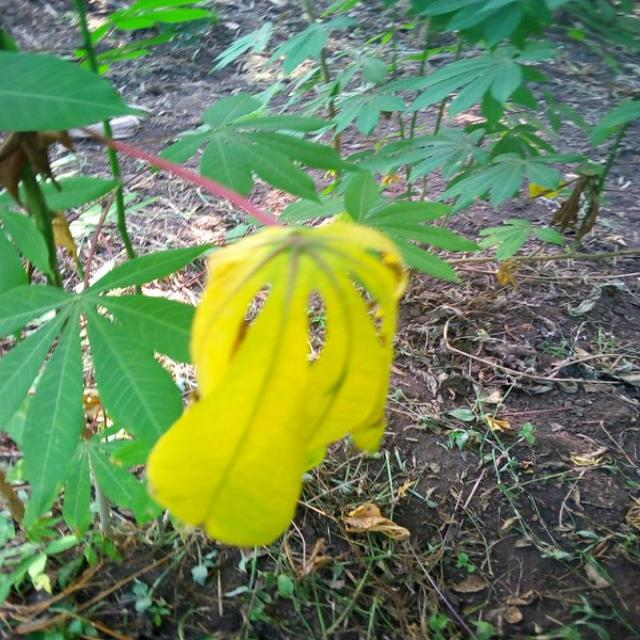cassava leaf: (144, 219, 409, 548), (0, 47, 151, 133)
